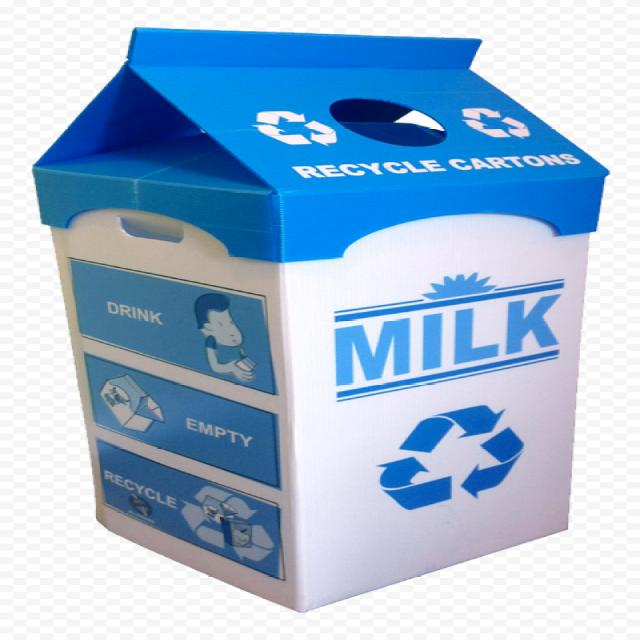non_white_jug: (57, 22, 600, 612)
